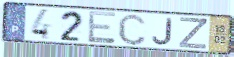2: (57, 8, 85, 44)
4: (27, 8, 54, 41)
C: (117, 12, 147, 47)
E: (87, 10, 118, 45)
J: (151, 17, 174, 46)
Z: (178, 16, 209, 51)
